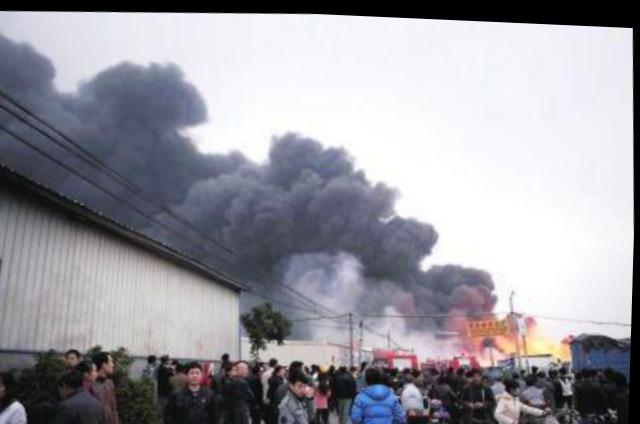fire: (518, 319, 575, 355)
